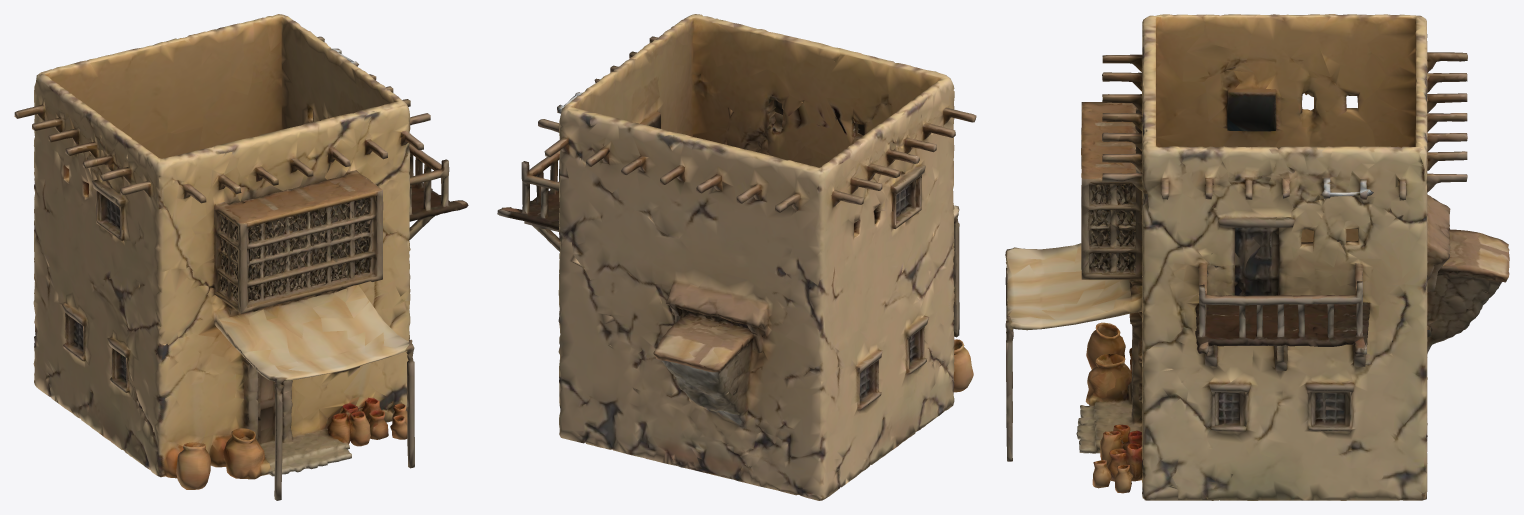
The model's file is Desert_Dwelling.glb.
3 renders of one model, left to right at view 1: azimuth 30°, elevation 25°; view 2: azimuth 150°, elevation 25°; view 3: azimuth 270°, elevation 25°, orthographic. The views are drawn at different scales.
Parts seen in each view (by area): view 1: Desert_Dwelling; view 2: Desert_Dwelling; view 3: Desert_Dwelling.
Part boxes in pixels (x1,y1,x2,y2): Desert_Dwelling: (14, 14, 468, 500); Desert_Dwelling: (497, 14, 976, 500); Desert_Dwelling: (1005, 14, 1509, 500).
Bounding box in the file's own units: 1.69 × 1.38 × 1.8.
1 material, 1 textured.
